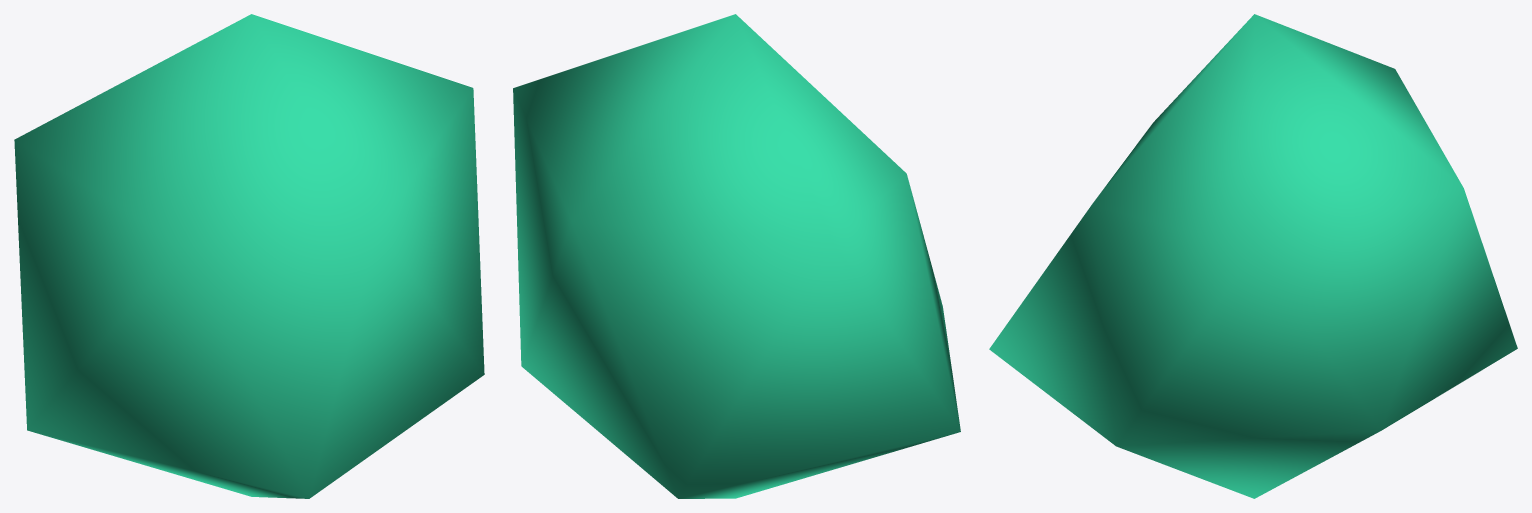
File: vortex_fragment.glb
3 renders of one model, left to right at view 1: azimuth 30°, elevation 25°; view 2: azimuth 150°, elevation 25°; view 3: azimuth 270°, elevation 25°, orthographic.
Visible parts, largest first — view 1: vortex_fragment_v0; view 2: vortex_fragment_v0; view 3: vortex_fragment_v0.
Part boxes in pixels (x1,y1,x2,y2): vortex_fragment_v0: (14, 14, 484, 498); vortex_fragment_v0: (513, 14, 960, 498); vortex_fragment_v0: (989, 14, 1517, 498).
Size of the model in its own units: 0.205 by 0.212 by 0.2094.
